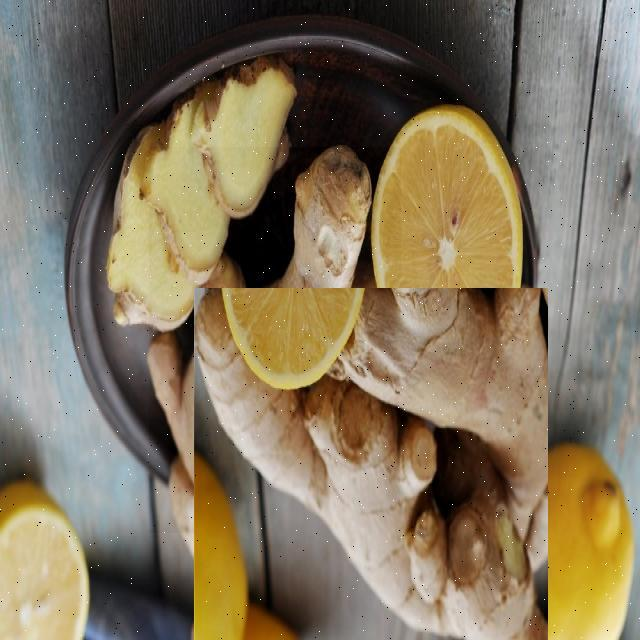ginger: (194, 287, 547, 639), (148, 146, 399, 532)
